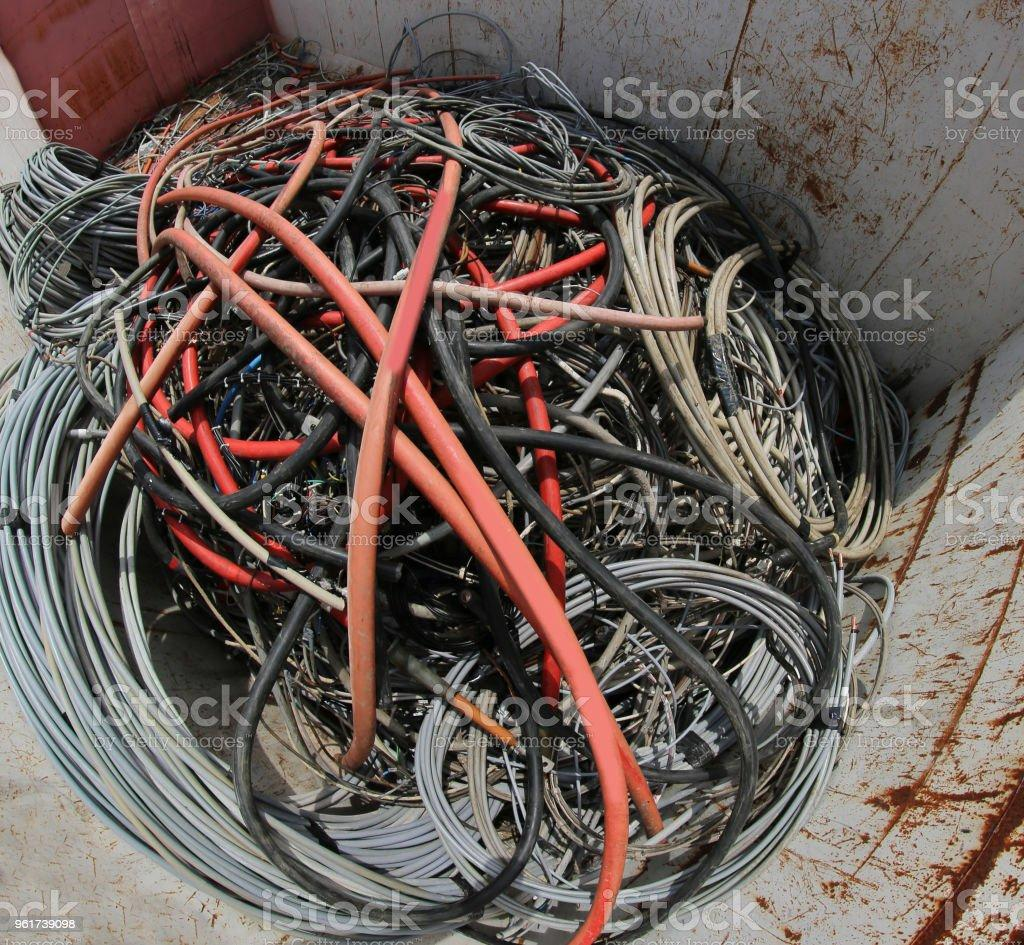wires: (61, 173, 845, 878)
